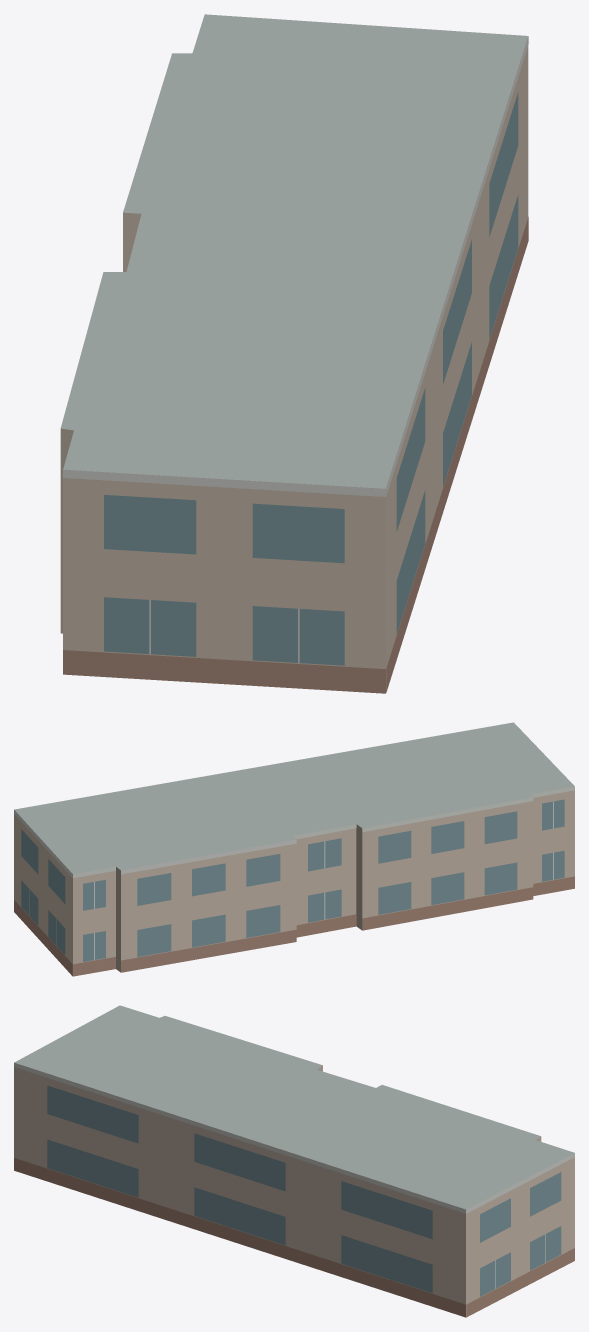
File: survey-upis-32735857.glb
3 views of the same model, one above another, from view 1: azimuth 30°, elevation 25°; view 2: azimuth 150°, elevation 25°; view 3: azimuth 270°, elevation 25° (orthographic). The views are drawn at different scales.
Parts seen in each view (by area): view 1: survey-upis-32735857.tmp; view 2: survey-upis-32735857.tmp; view 3: survey-upis-32735857.tmp.
Part boxes in pixels (box(x1,y1,x2,y2)): survey-upis-32735857.tmp: box(60, 14, 528, 693); survey-upis-32735857.tmp: box(14, 722, 574, 976); survey-upis-32735857.tmp: box(14, 1005, 574, 1317).
Size of the model in its own units: 24.75 by 6.1 by 28.71.
